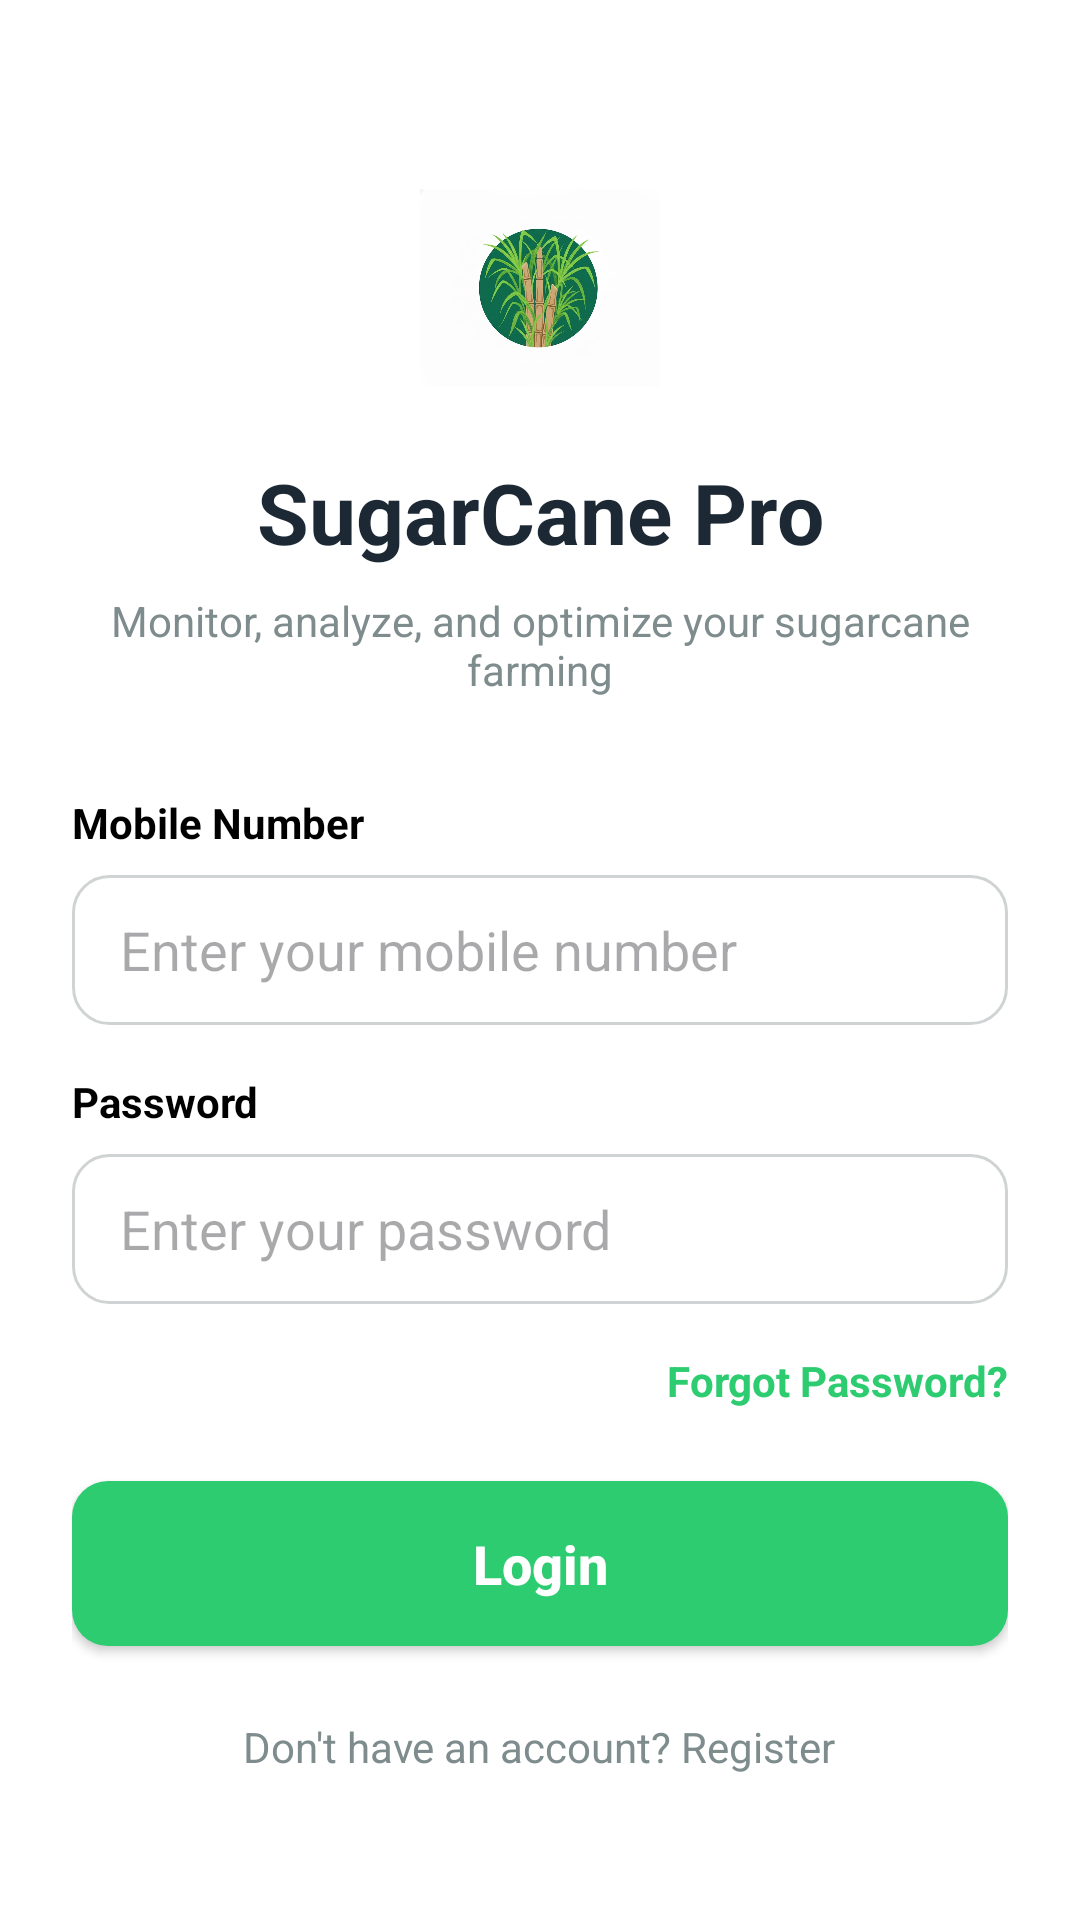

Locate icon controls on the screen. Image size 1080*1920, boxes as (left=x1, top=y1, right=x2, bottom=y2).
cultivation: (left=479, top=229, right=599, bottom=348)
